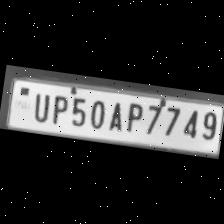0: (85, 96, 108, 130)
4: (177, 106, 201, 140)
5: (65, 92, 89, 128)
7: (140, 100, 164, 136), (158, 104, 181, 138)
9: (196, 108, 220, 143)
A: (105, 98, 126, 133)
P: (120, 99, 145, 135), (47, 91, 70, 126)
U: (26, 88, 52, 124)
